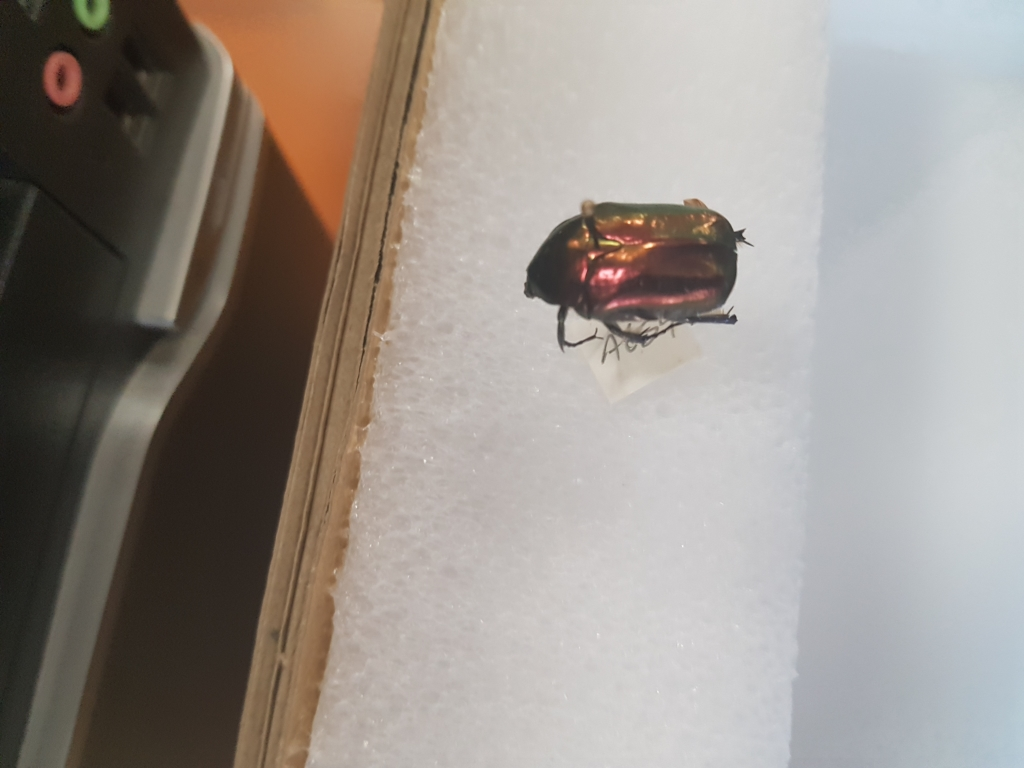Protaetia_cuprea_ignicollis: (519, 192, 773, 355)
